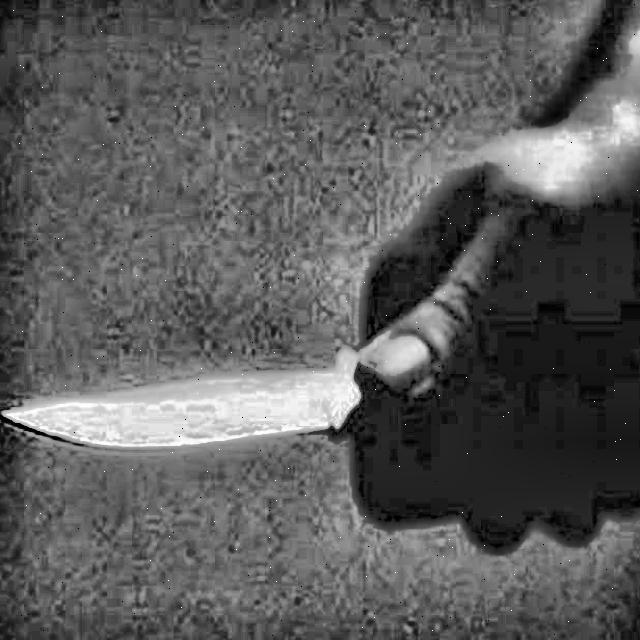knife: (3, 349, 410, 456)
